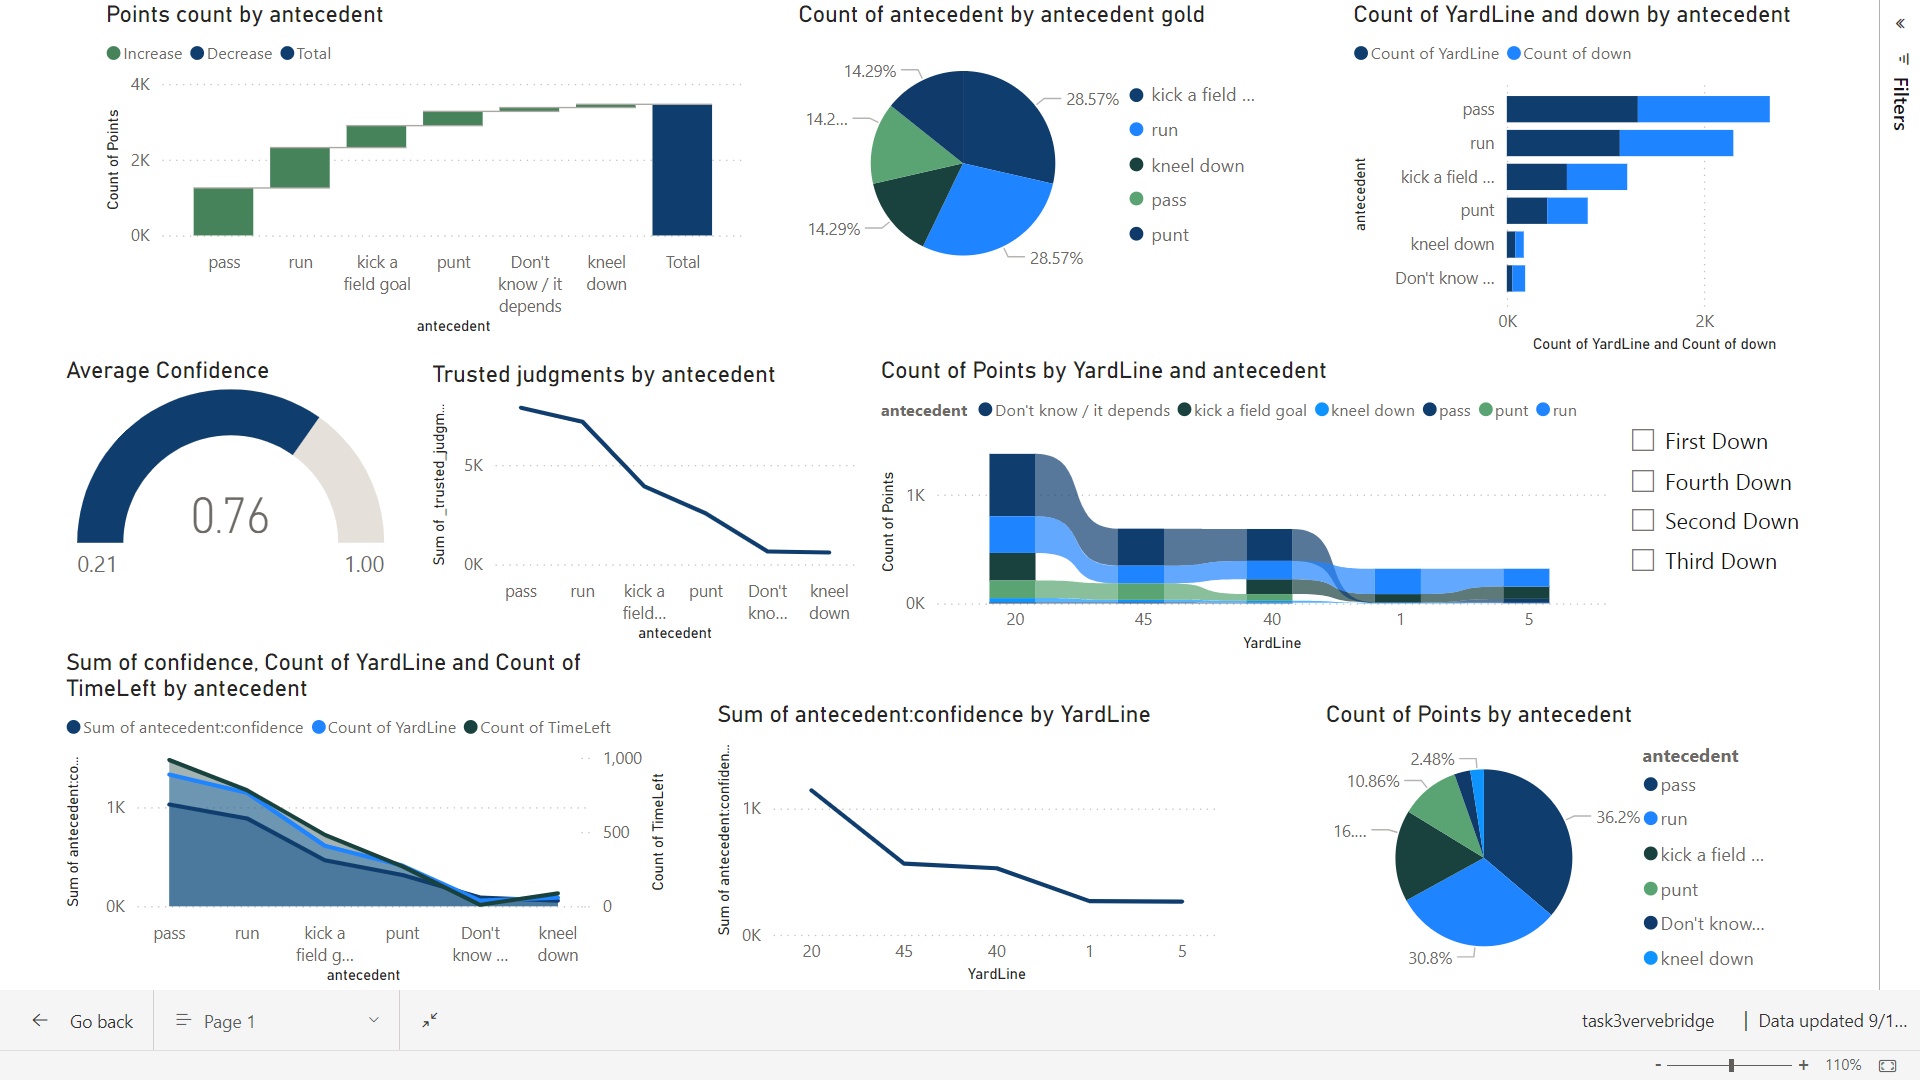

Layout of this report page (visuals, bound fields, positions):
{"tool":"powerbi","page":{"name":"Page 1","canvas":[1280,720],"ordinal":0},"visuals":[{"type":"lineChart","title":"Trusted judgments by antecedent","fields":{"Category":["Football-Scenarios.antecedent"],"Y":["Sum(Football-Scenarios._trusted_judgments)"]},"box":[266,261.5,319,209.6],"z":0},{"type":"pieChart","title":"Count of antecedent by antecedent gold","fields":{"Y":["Count(Football-Scenarios.antecedent)"],"Category":["Football-Scenarios.antecedent_gold"]},"box":[533.1,0,353.9,218.7],"z":3000},{"type":"areaChart","title":"Sum of confidence, Count of YardLine and Count of TimeLeft by antecedent","fields":{"Category":["Football-Scenarios.antecedent"],"Y":["Sum(Football-Scenarios.antecedent:confidence)","CountNonNull(Football-Scenarios.YardLine)"],"Y2":["CountNonNull(Football-Scenarios.TimeLeft)"]},"box":[0,471.1,447.5,249.1],"z":3002},{"type":"lineChart","fields":{"Y":["Sum(Football-Scenarios.antecedent:confidence)"],"Category":["Football-Scenarios.YardLine"]},"box":[473.4,509.5,375.3,210.8],"z":3004},{"type":"barChart","title":"Count of YardLine and down by antecedent","fields":{"Y":["CountNonNull(Football-Scenarios.YardLine)","CountNonNull(Football-Scenarios.down)"],"Category":["Football-Scenarios.antecedent"]},"box":[936.6,0,343.8,261.5],"z":3005},{"type":"ribbonChart","fields":{"Category":["Football-Scenarios.YardLine"],"Y":["CountNonNull(Football-Scenarios.Points)"],"Series":["Football-Scenarios.antecedent"]},"box":[592.9,259.2,537.6,219.8],"z":3006},{"type":"waterfallChart","title":"Points count by antecedent","fields":{"Category":["Football-Scenarios.antecedent"],"Y":["CountNonNull(Football-Scenarios.Points)"]},"box":[29.4,0,474.5,248.2],"z":3007},{"type":"pieChart","fields":{"Category":["Football-Scenarios.antecedent"],"Y":["CountNonNull(Football-Scenarios.Points)"]},"box":[916.4,509.5,339.3,210.8],"z":3008},{"type":"slicer","fields":{"Values":["Football-Scenarios.down"]},"box":[1130.5,300.9,149.9,149.9],"z":3010},{"type":"gauge","title":"Average Confidence","fields":{"Y":["Avg(Football-Scenarios.antecedent:confidence)"],"MinValue":["Min(Football-Scenarios.antecedent:confidence)"],"MaxValue":["Max(Football-Scenarios.antecedent:confidence)"]},"box":[0,259.2,250.2,172.4],"z":3011}]}

Visuals, with their boxes on the page's 1280x720 design canvas (x1, y1, x2, y2). These are canvas units, not pixel positions in the 1920x1080 screenshot, which may show the page scaled, cropped or inside an application window:
"Trusted judgments by antecedent" lineChart: detection(266, 262, 585, 471)
"Count of antecedent by antecedent gold" pieChart: detection(533, 0, 887, 219)
"Sum of confidence, Count of YardLine and Count of TimeLeft by antecedent" areaChart: detection(0, 471, 448, 720)
lineChart - Sum(Football-Scenarios.antecedent:confidence) x Football-Scenarios.YardLine: detection(473, 510, 849, 720)
"Count of YardLine and down by antecedent" barChart: detection(937, 0, 1280, 262)
ribbonChart - Football-Scenarios.YardLine x CountNonNull(Football-Scenarios.Points): detection(593, 259, 1130, 479)
"Points count by antecedent" waterfallChart: detection(29, 0, 504, 248)
pieChart - Football-Scenarios.antecedent x CountNonNull(Football-Scenarios.Points): detection(916, 510, 1256, 720)
slicer - Football-Scenarios.down: detection(1130, 301, 1280, 451)
"Average Confidence" gauge: detection(0, 259, 250, 432)
